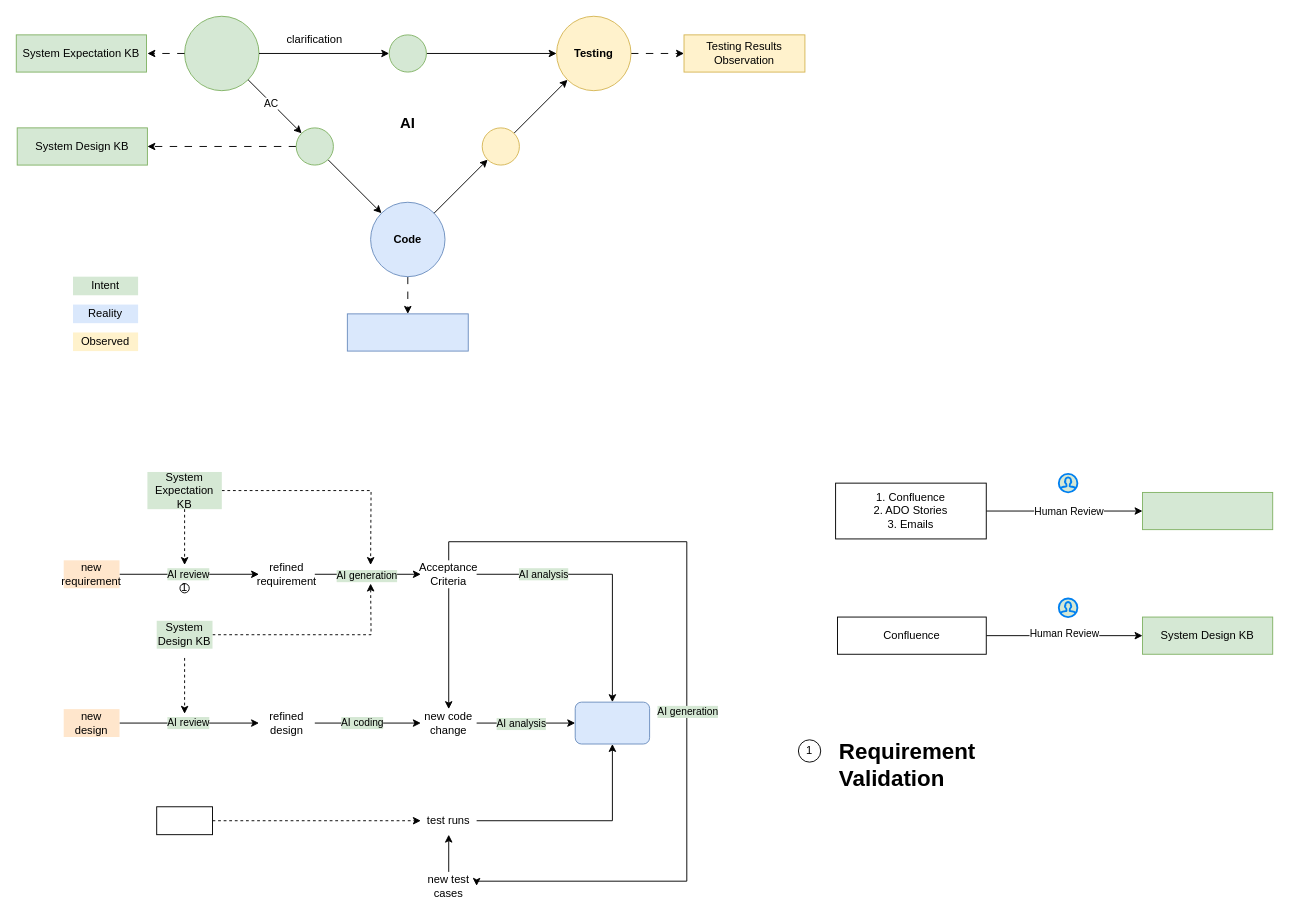
Some shapes in this 1289 by 916 pixel diagram are drawn without their labels. Here are the shapes that lost their labels. From the top down, the centre of each, then its label:
the point at 221,53: Requirements
the point at 407,53: AC Validation
the point at 314,146: Design
the point at 500,146: Test Cases
the point at 407,332: System Code Graph
the point at 1207,511: System Requirements KB
the point at 612,722: system behavior gap
the point at 184,820: Test Engine
